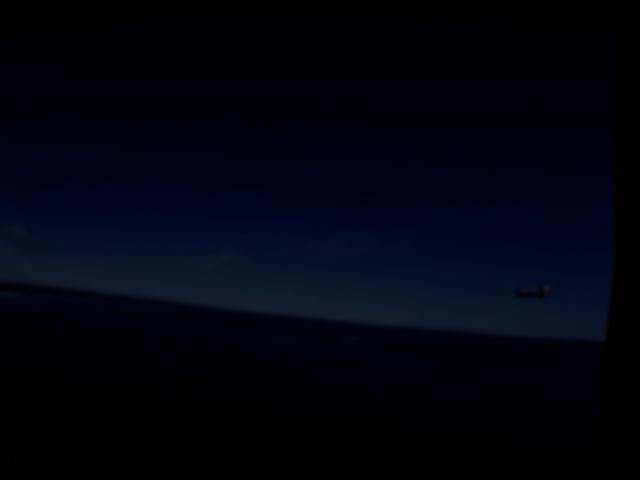uav: (516, 273, 563, 299)
